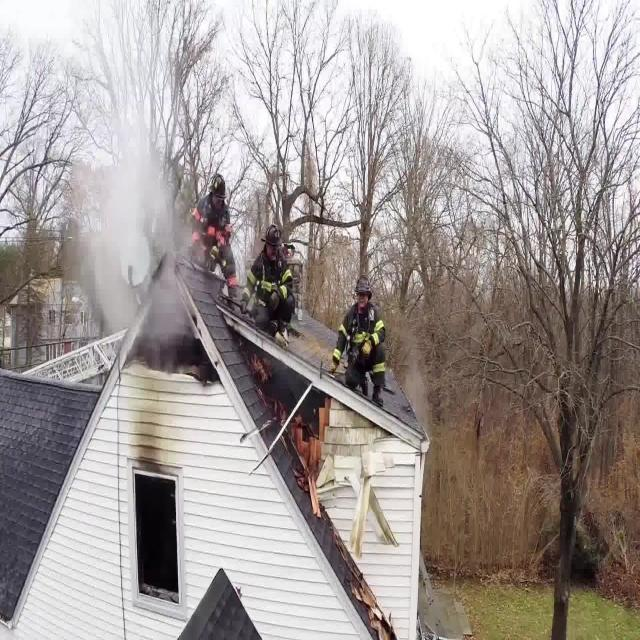Smoke: (82, 0, 192, 355)
